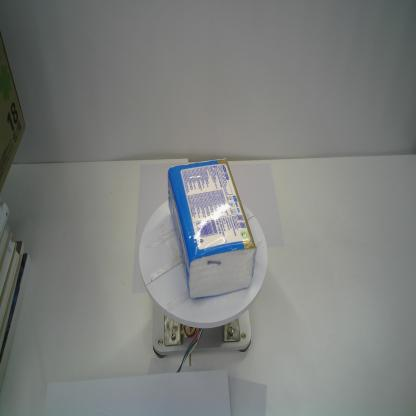Tissue: (167, 156, 256, 299)
